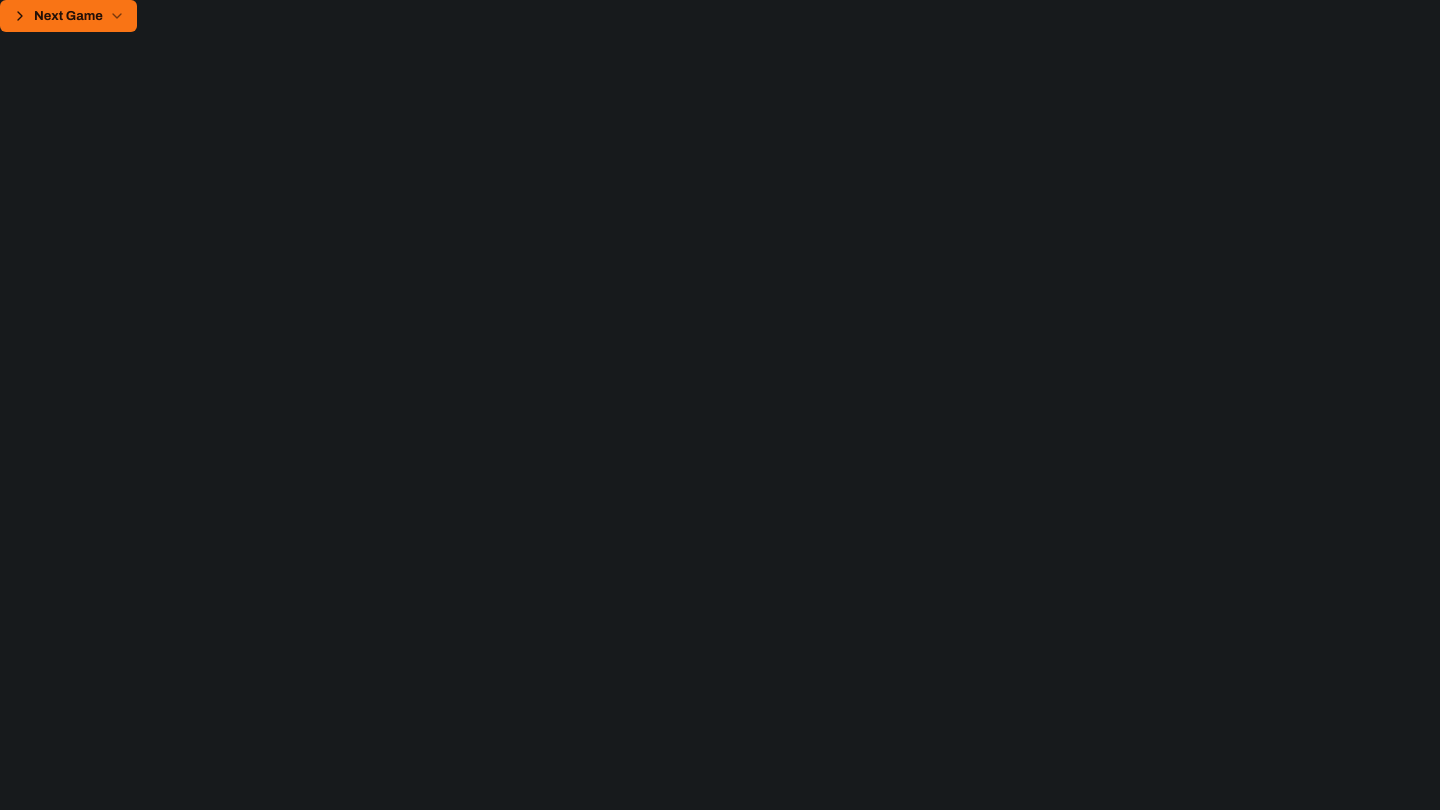
Scenario: NextGameControl › defaults to the current season once the stored one has ended
The image size is (1440, 810).
Click the button "Next Game" at (68, 16), box top-left (0, 0), bottom-right (137, 32)
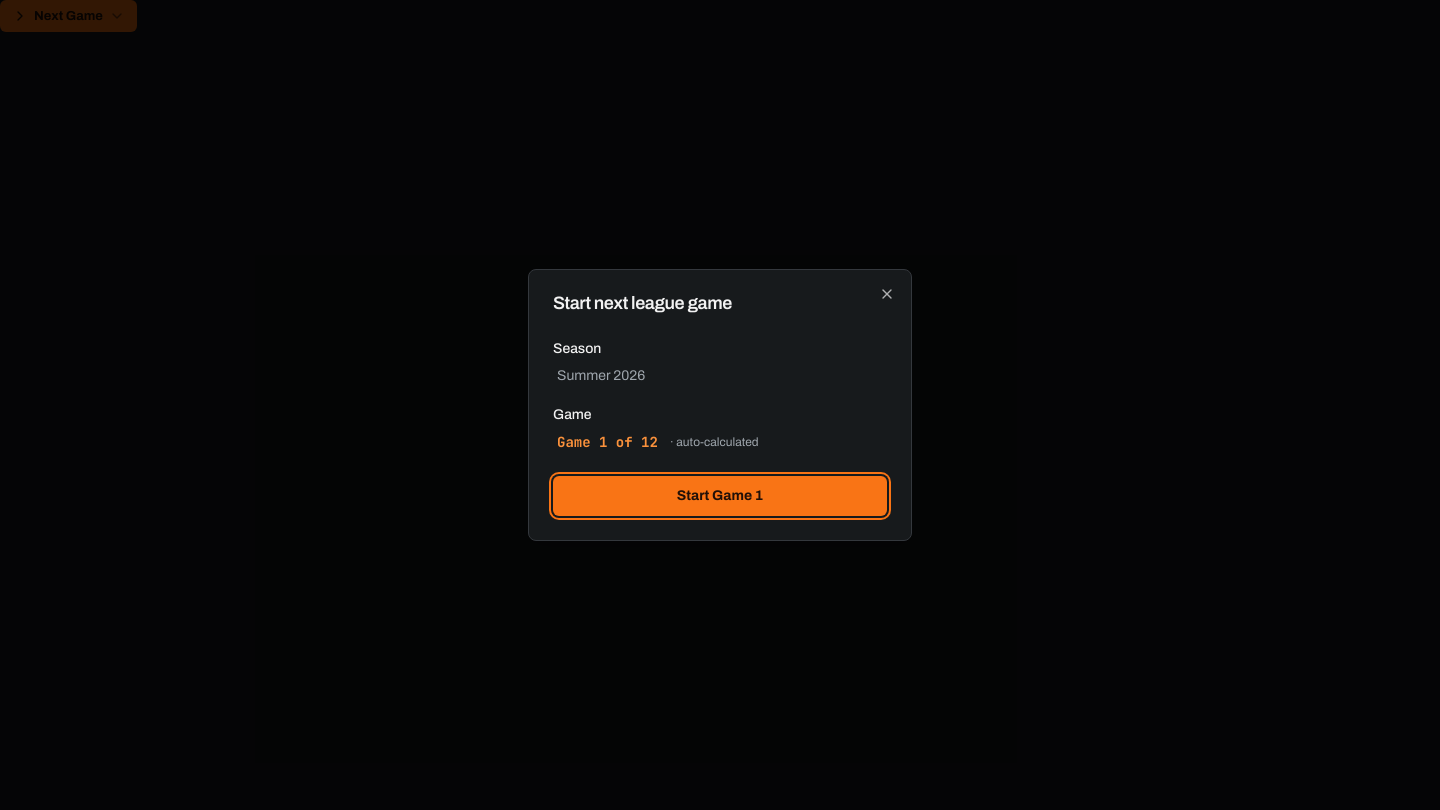
expect the button "Start Game 1" is shown: met, box top-left (553, 476), bottom-right (887, 516)
